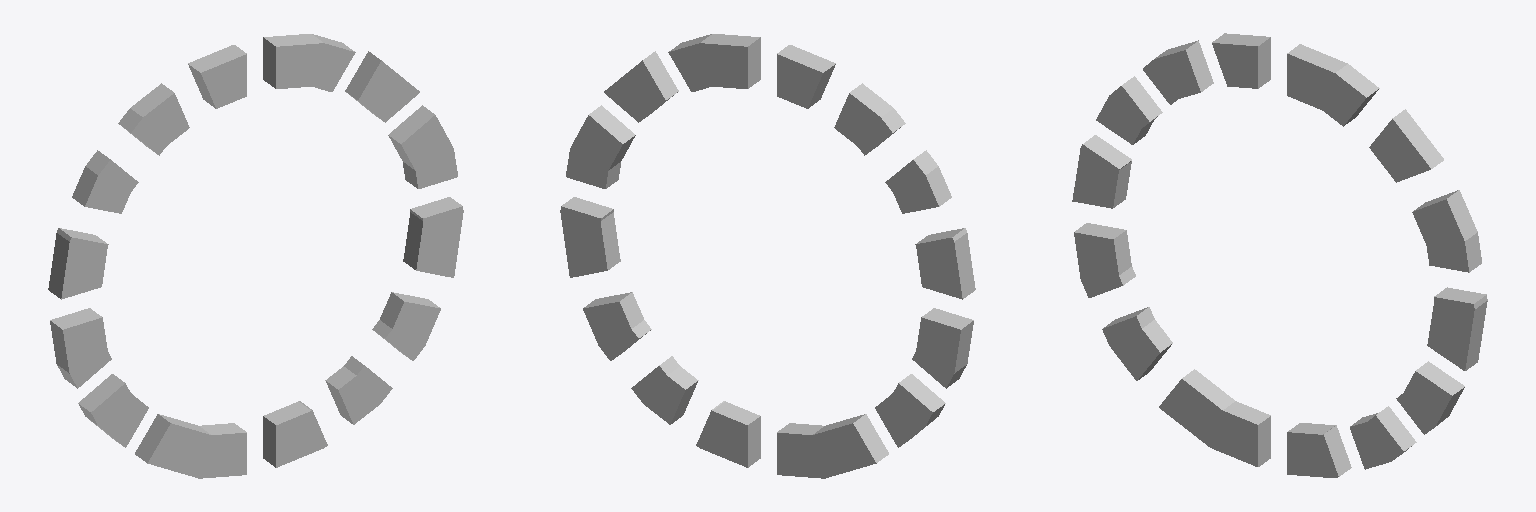
File: dashedRing.obj
3 views of the same model, side by side, from view 1: azimuth 30°, elevation 25°; view 2: azimuth 150°, elevation 25°; view 3: azimuth 330°, elevation 25° (orthographic).
Parts seen in each view (by area): view 1: obj_0; view 2: obj_0; view 3: obj_0.
Boxes of the visible parts, x1=… form: obj_0: x1=48, y1=34, x2=463, y2=478; obj_0: x1=560, y1=34, x2=975, y2=478; obj_0: x1=1072, y1=33, x2=1487, y2=477.
Size of the model in its own units: 50 by 50 by 2.8.